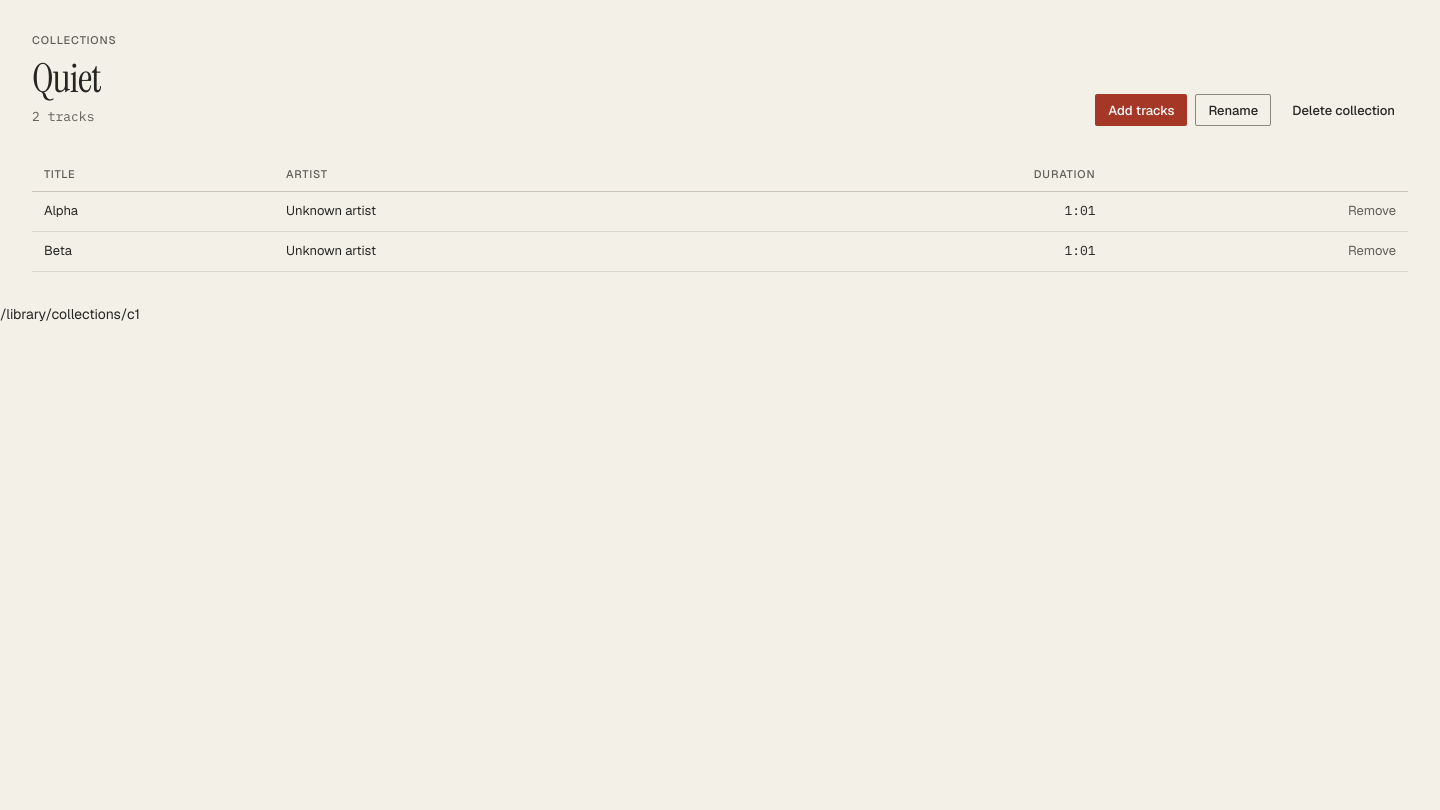
Test: Collections › confirms deletion of the collection only, then returns to the list
Click the button "Delete collection" at (1344, 110), box [1279,94,1408,126]
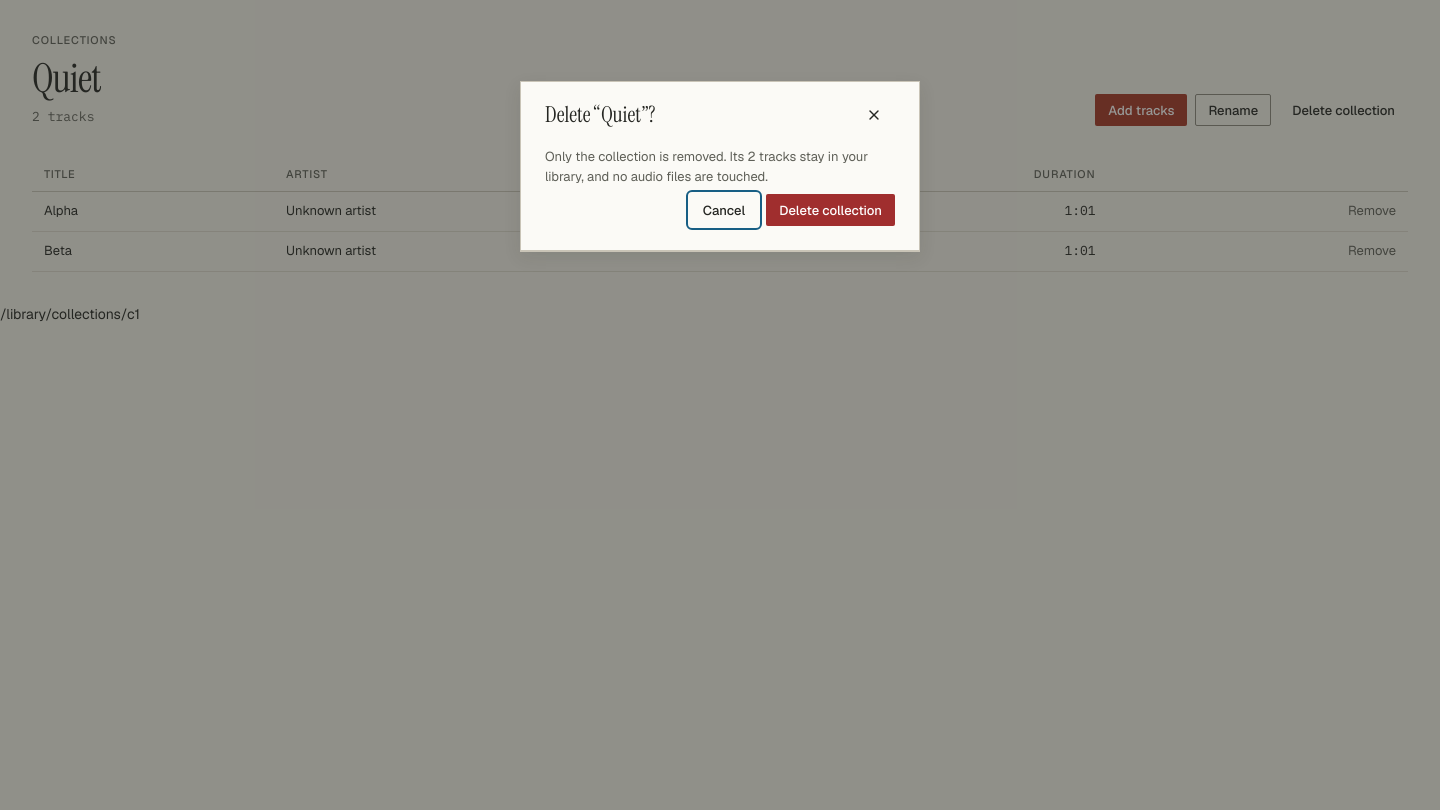
Expected: the text "no audio files are touched" is shown, [545,148,868,184]
Expected: the text "2 tracks stay" is shown, [545,147,895,186]
Click the button "Delete collection" at (831, 210), box [766,194,895,226]
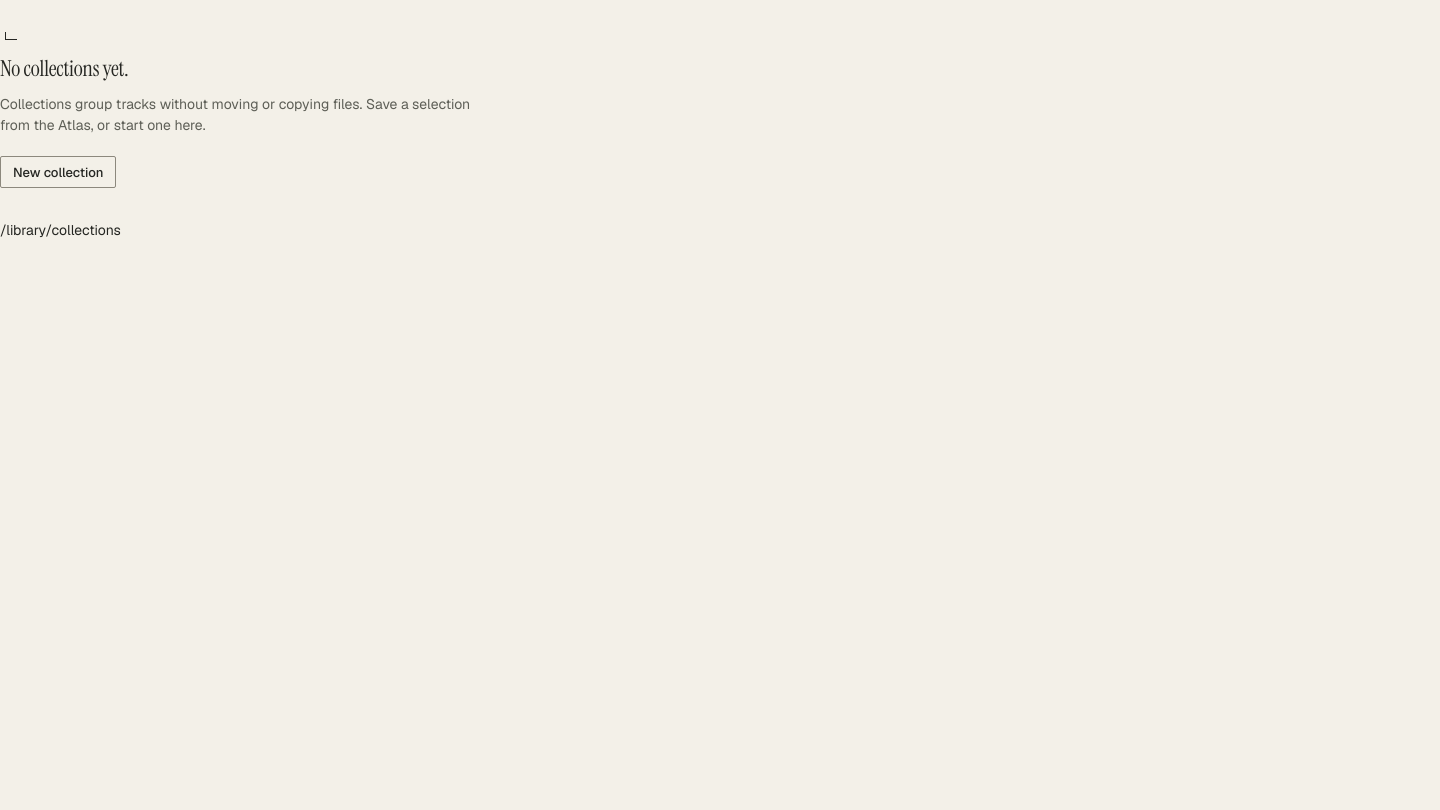
Expected: the text with test id "where" reads "/library/collections", [0,221,121,239]
